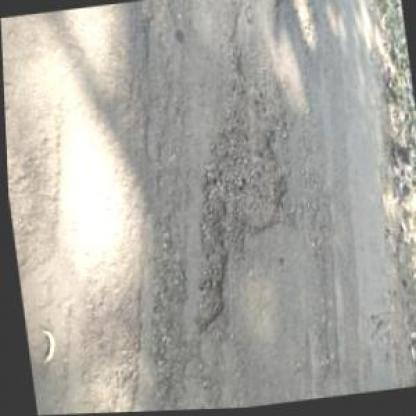pothole: (154, 40, 311, 336)
